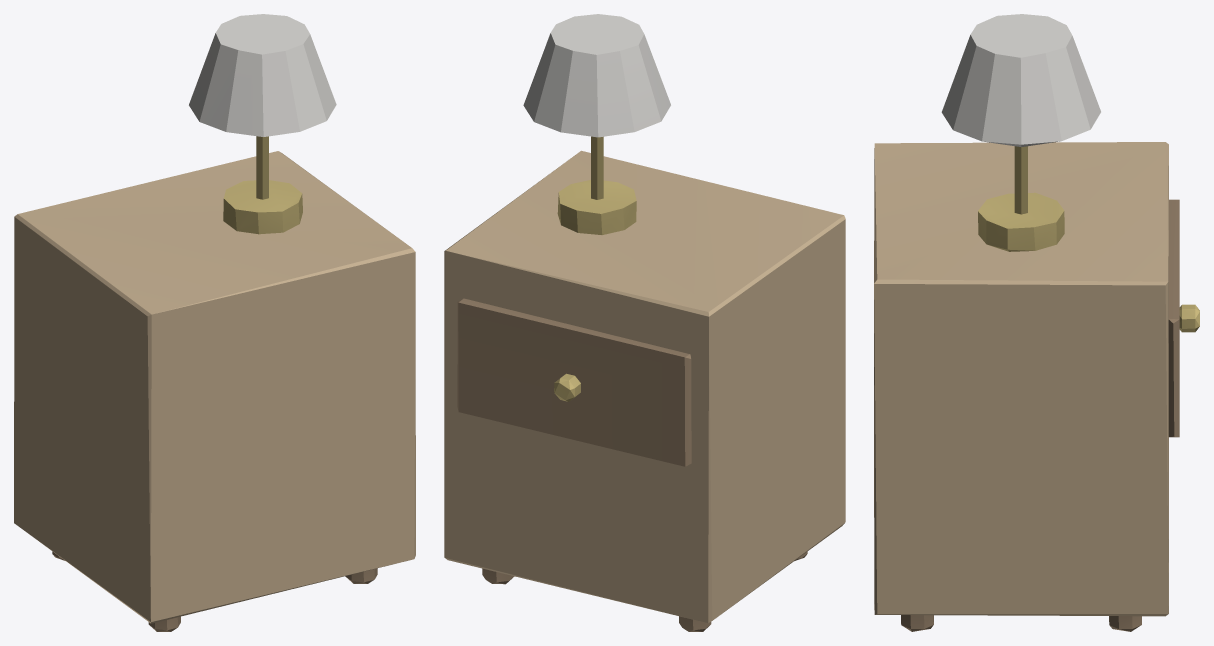
Rendered from furn_nightstand__oak_low.glb.
The picture shows the model from 3 angles, left to right: view 1: azimuth 30°, elevation 25°; view 2: azimuth 150°, elevation 25°; view 3: azimuth 270°, elevation 25°; orthographic projection. The views are drawn at different scales.
Size of the model in its own units: 0.45 by 0.8395 by 0.4386.
